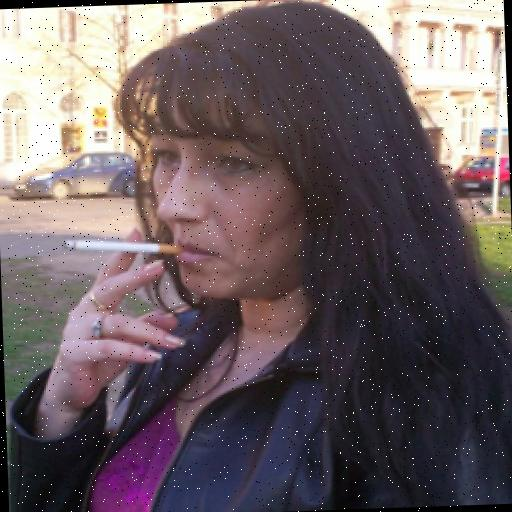merokok: (80, 154, 219, 306)
